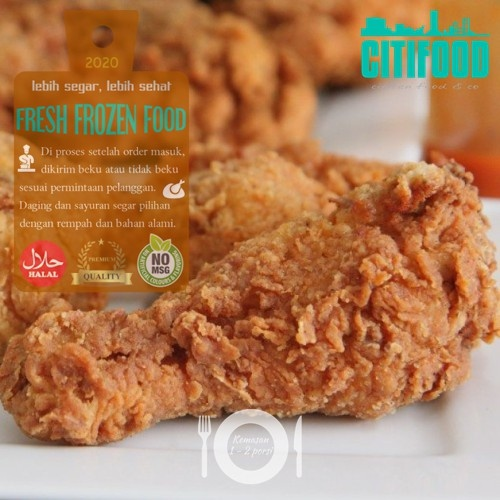ayam_goreng: (2, 168, 487, 456)
